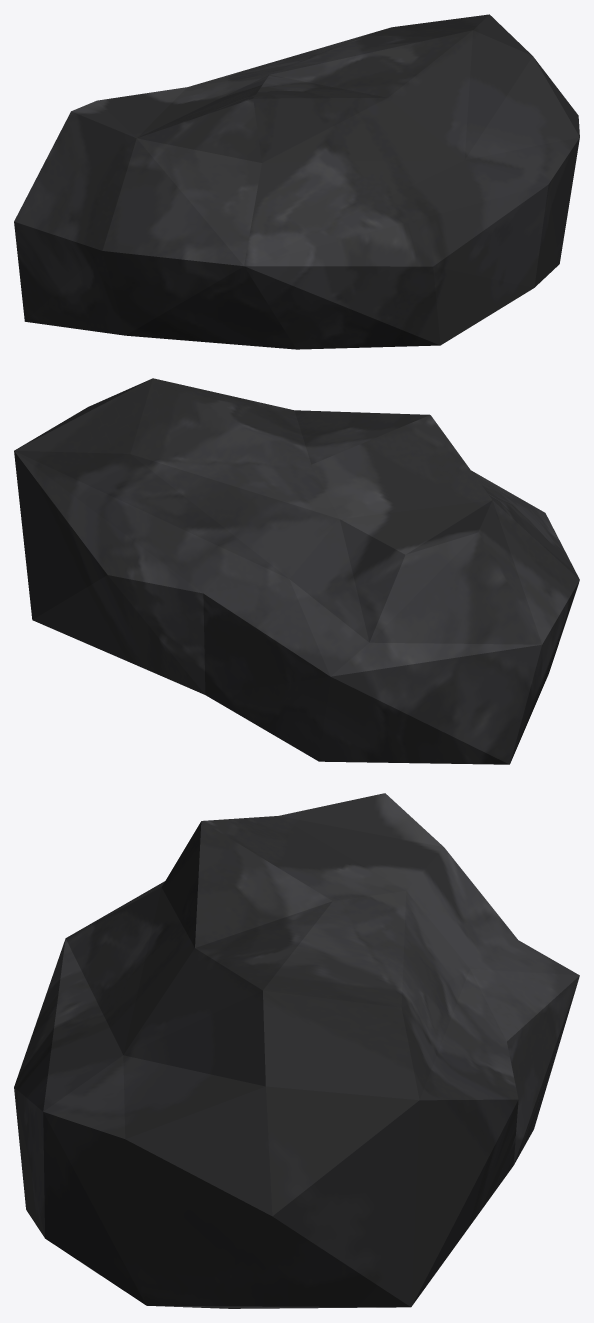
File: Coal.FBX
3 renders of one model, top to bottom at view 1: azimuth 30°, elevation 25°; view 2: azimuth 150°, elevation 25°; view 3: azimuth 270°, elevation 25°, orthographic. The views are drawn at different scales.
Visible parts, largest first — view 1: Object053; view 2: Object053; view 3: Object053.
Boxes of the visible parts, x1=… form: Object053: x1=14, y1=14, x2=579, y2=349; Object053: x1=14, y1=378, x2=579, y2=764; Object053: x1=14, y1=793, x2=579, y2=1308.
Bounding box in the file's own units: 0.4558 × 0.2122 × 0.3162.
1 material, 1 textured.
